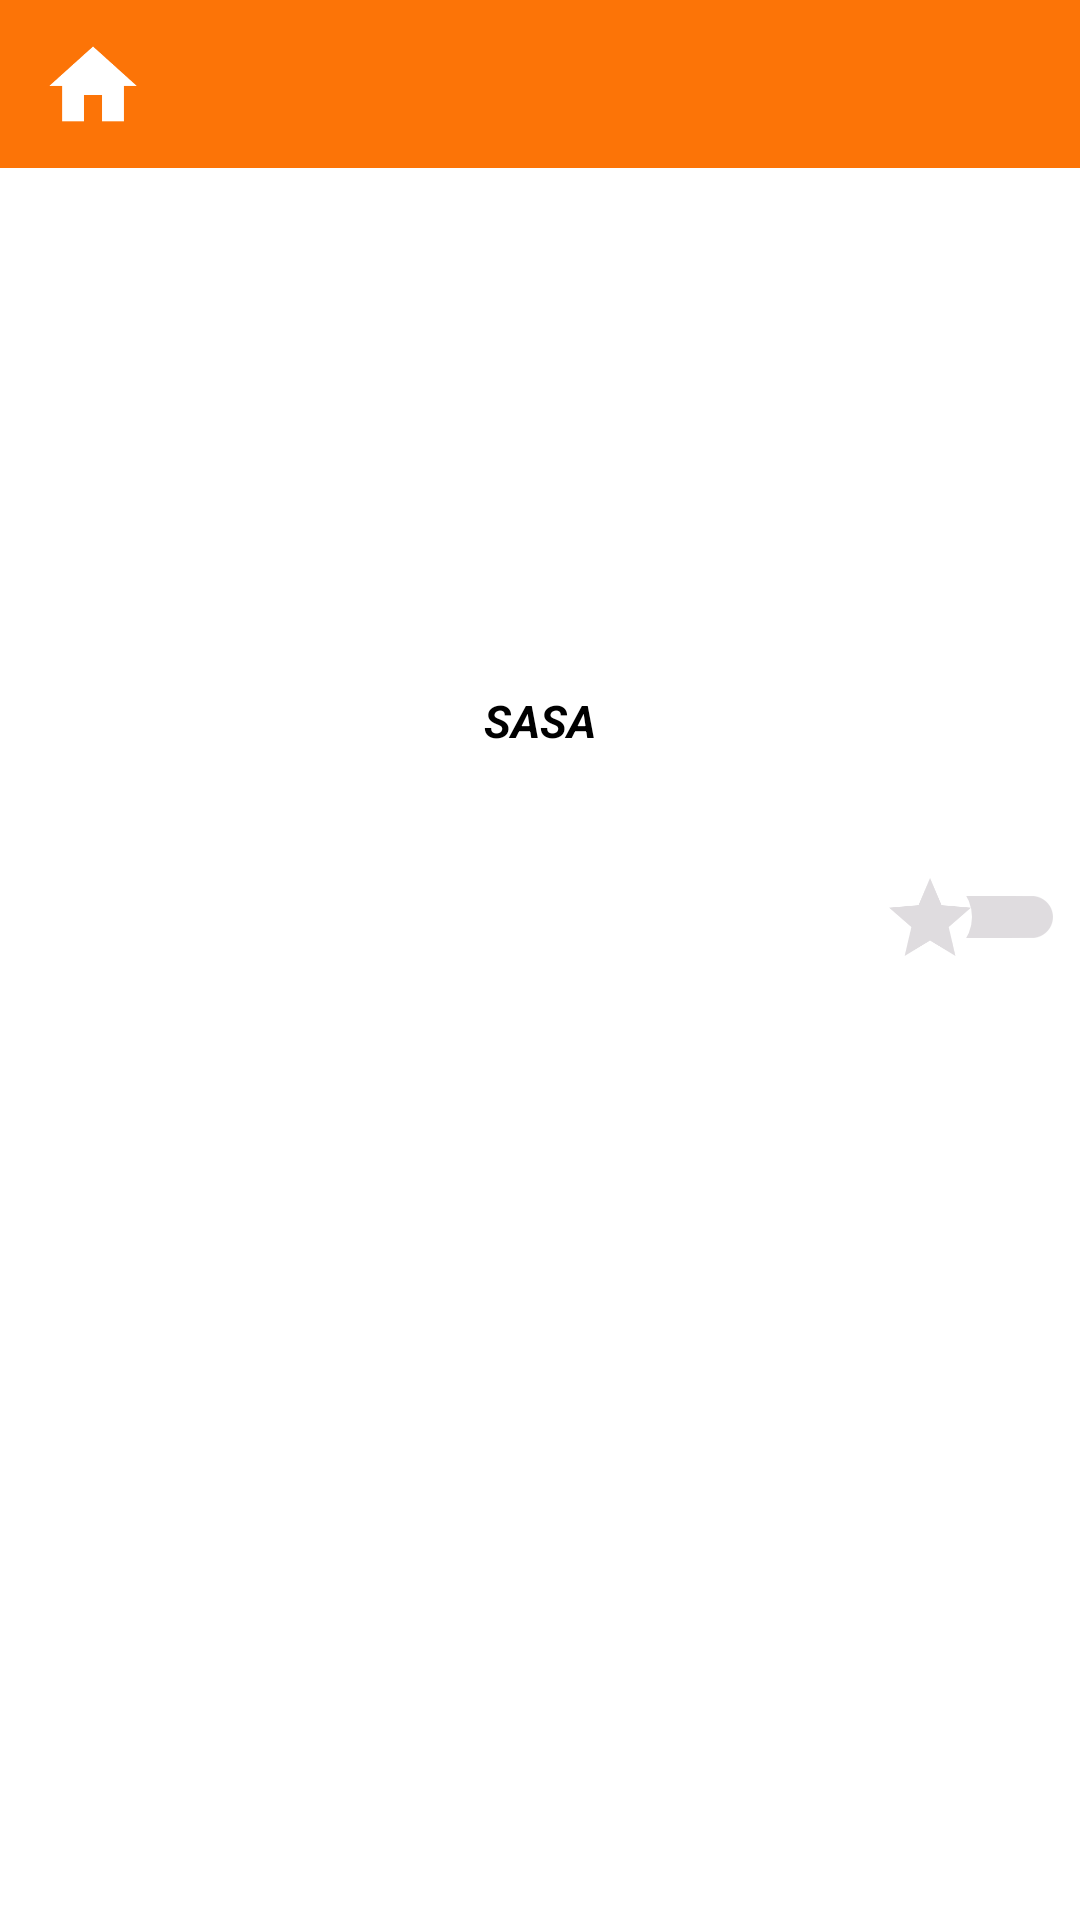

Point at icon controls on the screen. Image size 1080 x 1920, points as (x=x, y=y).
home: (x=93, y=84)
